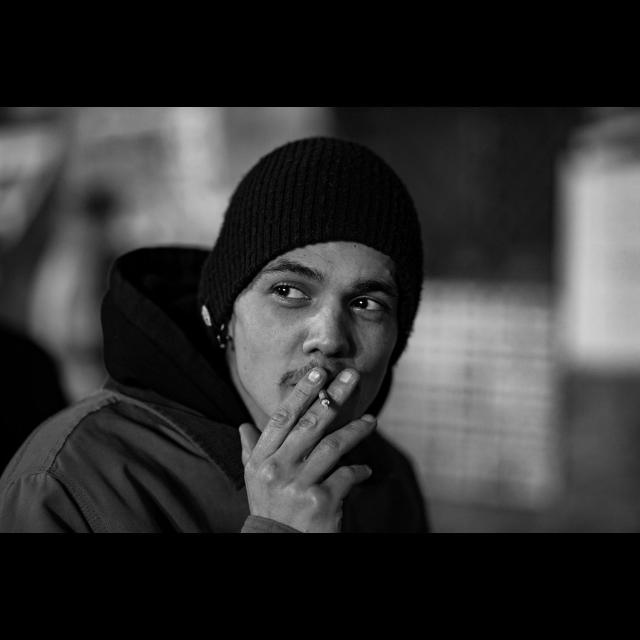rokok: (313, 387, 331, 409)
